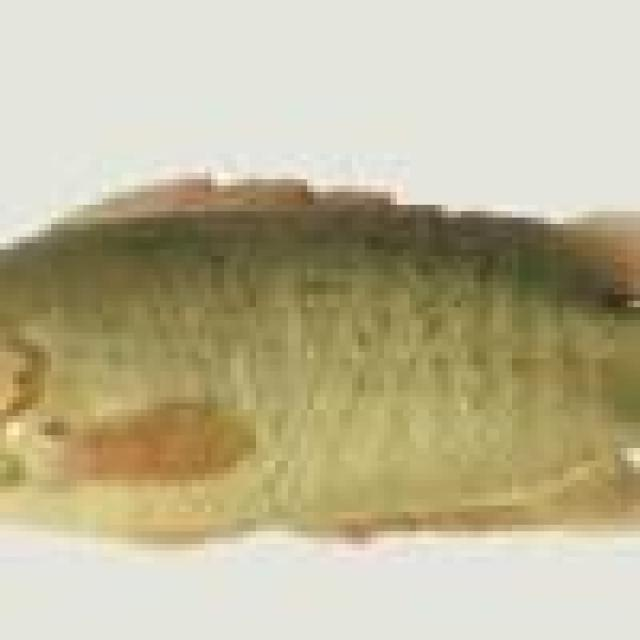Climbing-Perch: (0, 141, 640, 548)
